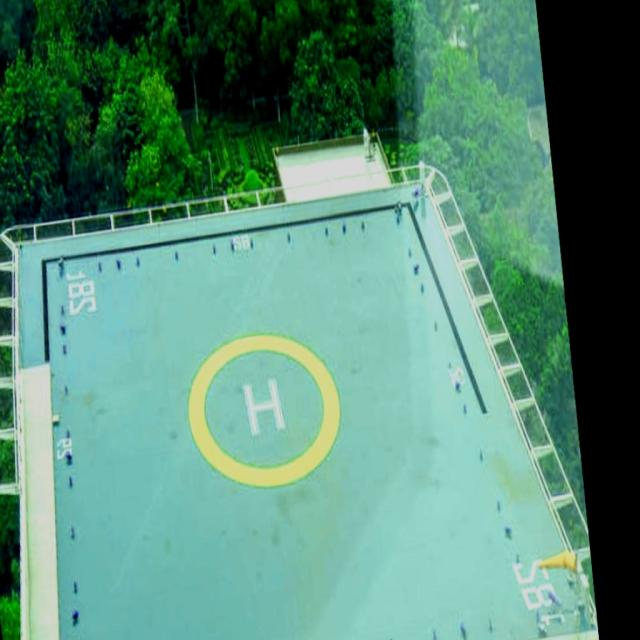helipad: (182, 328, 346, 490)
